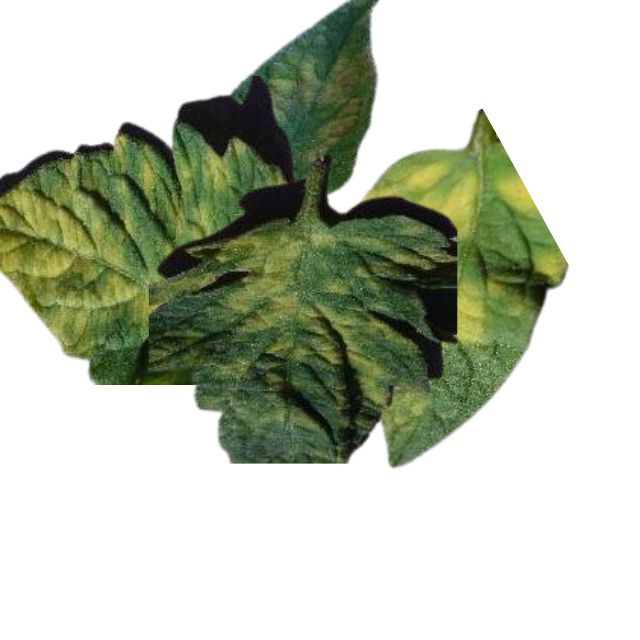Leaf_Mold: (2, 140, 242, 360), (215, 220, 443, 407), (271, 44, 377, 161), (362, 151, 478, 238), (455, 276, 490, 346), (494, 168, 540, 216), (536, 241, 570, 283)
